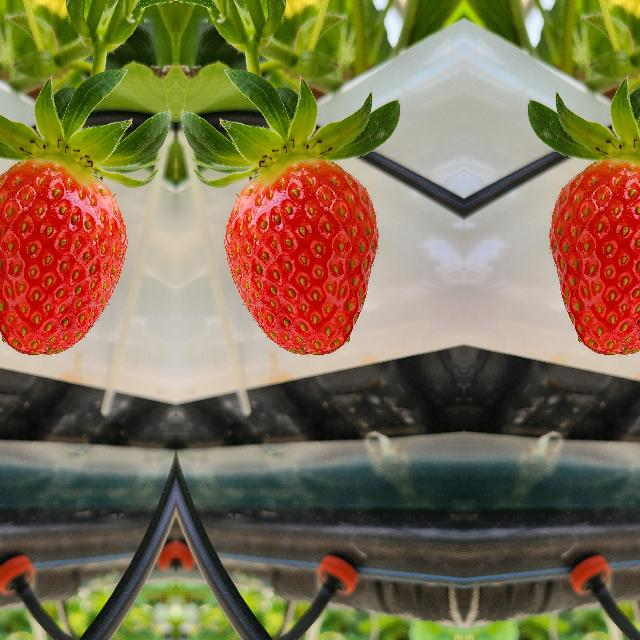Health_100: (222, 157, 380, 359), (0, 157, 127, 359), (546, 157, 640, 359)
